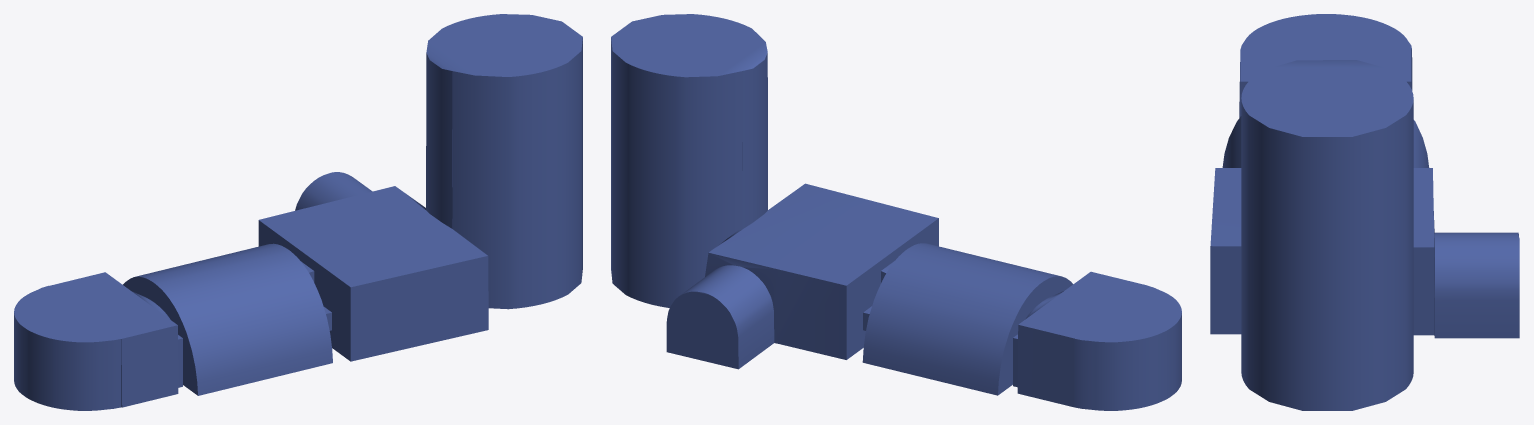
Rendered from TheMuraka_OceanEnv.fbx.
The picture shows the model from 3 angles, left to right: view 1: azimuth 30°, elevation 25°; view 2: azimuth 150°, elevation 25°; view 3: azimuth 270°, elevation 25°; orthographic projection. The views are drawn at different scales.
Visible parts, largest first — view 1: OceanEnvModel; view 2: OceanEnvModel; view 3: OceanEnvModel.
Part boxes in pixels (bbox=[...]): OceanEnvModel: bbox=[14, 14, 582, 410]; OceanEnvModel: bbox=[611, 14, 1181, 410]; OceanEnvModel: bbox=[1210, 14, 1519, 410].
Size of the model in its own units: 2032 by 822 by 839.
